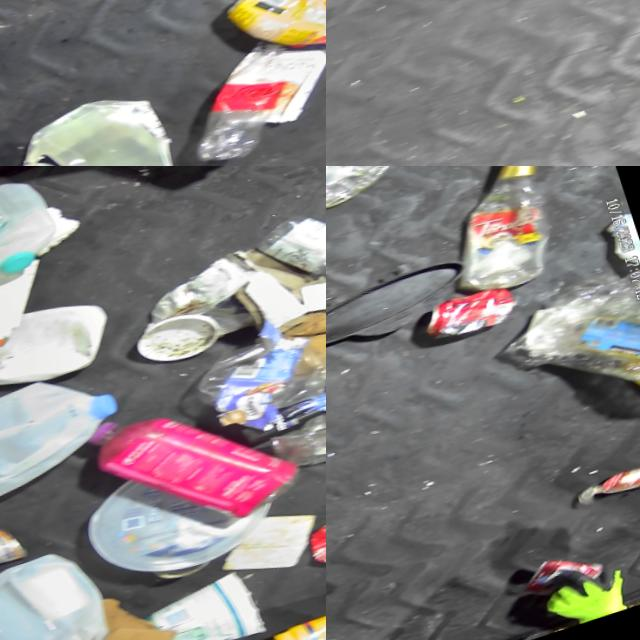can: (237, 377, 326, 447), (420, 287, 515, 349), (519, 549, 597, 602), (297, 504, 326, 576), (0, 517, 32, 581)
milk_jug: (0, 360, 135, 519), (0, 289, 118, 414), (4, 84, 182, 166), (0, 541, 114, 640), (0, 172, 67, 295)
non_white_jug: (70, 381, 297, 561)
plastic_bottle: (421, 166, 587, 305), (167, 41, 303, 166), (247, 196, 326, 322)
